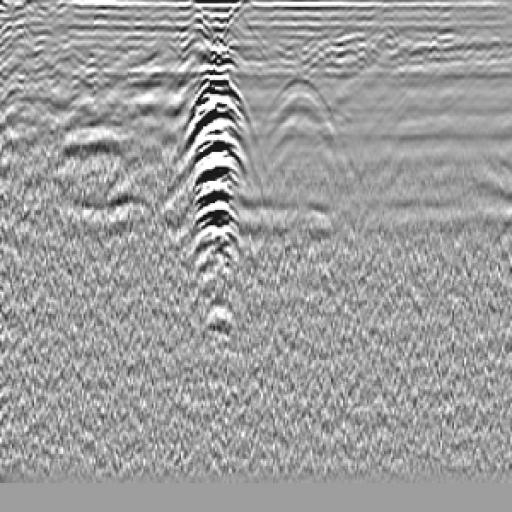metalic: (149, 24, 286, 343)
nonmetalic: (256, 56, 351, 180)
